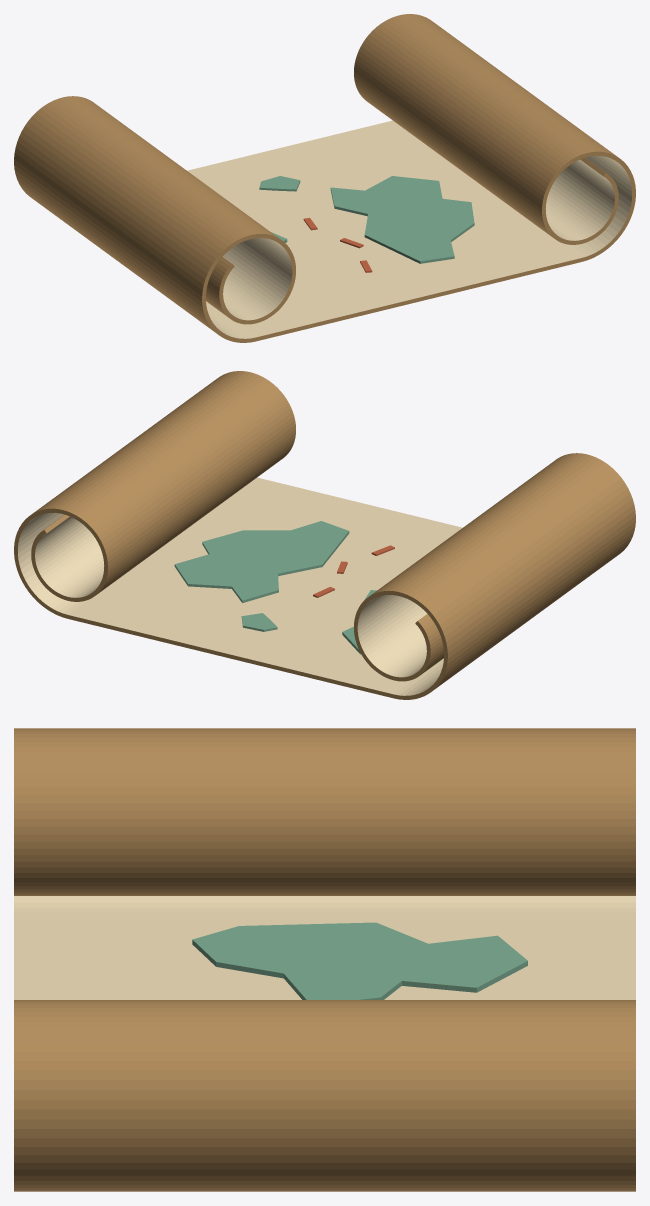
The picture shows the model from 3 angles, top to bottom: view 1: azimuth 30°, elevation 25°; view 2: azimuth 150°, elevation 25°; view 3: azimuth 270°, elevation 25°; orthographic projection. The views are drawn at different scales.
Visible parts, largest first — view 1: Map_OneContinuousDoubleCurledThickSheet, Island_East, Islet_North; view 2: Map_OneContinuousDoubleCurledThickSheet, Island_East, Islet_North; view 3: Map_OneContinuousDoubleCurledThickSheet, Island_West.
Boxes of the visible parts, box(x1,y1,x2,y2) form: Map_OneContinuousDoubleCurledThickSheet: box(14, 14, 635, 342); Island_East: box(330, 176, 474, 263); Islet_North: box(259, 176, 300, 191); Map_OneContinuousDoubleCurledThickSheet: box(14, 371, 635, 699); Island_East: box(174, 521, 349, 602); Islet_North: box(241, 613, 277, 631); Map_OneContinuousDoubleCurledThickSheet: box(14, 728, 635, 1191); Island_West: box(192, 922, 527, 999).
Bounding box in the file's own units: 0.9055 × 0.2147 × 0.68.
